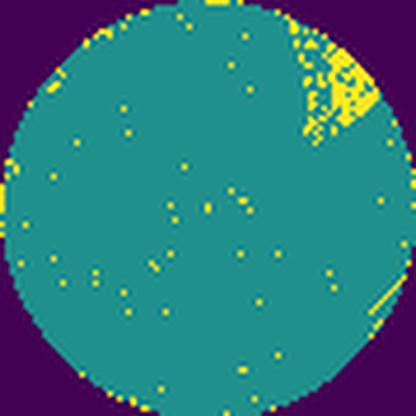Loc: (287, 19, 383, 148)
